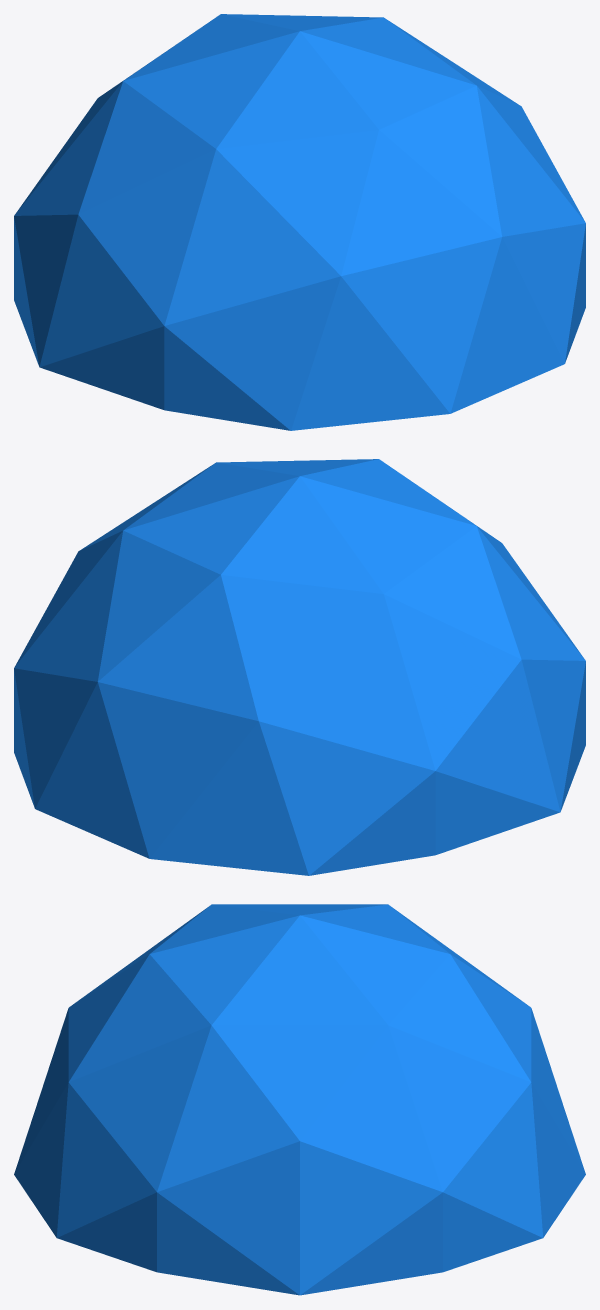
Rendered from Proto_Block_Hemisphere_Hedron_02.fbx.
3 views of the same model, one above another, from view 1: azimuth 30°, elevation 25°; view 2: azimuth 150°, elevation 25°; view 3: azimuth 270°, elevation 25° (orthographic). The views are drawn at different scales.
Visible parts, largest first — view 1: Proto_Block_Hemisphere_Hedron_02; view 2: Proto_Block_Hemisphere_Hedron_02; view 3: Proto_Block_Hemisphere_Hedron_02.
Part boxes in pixels (x1=…): Proto_Block_Hemisphere_Hedron_02: x1=14, y1=14, x2=585, y2=430; Proto_Block_Hemisphere_Hedron_02: x1=14, y1=459, x2=585, y2=875; Proto_Block_Hemisphere_Hedron_02: x1=14, y1=904, x2=585, y2=1295.
Size of the model in its own units: 1 by 0.5 by 1.
